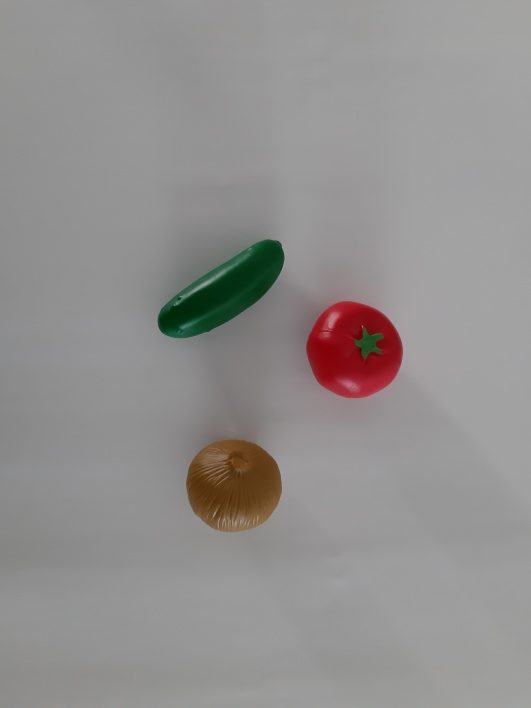cucumber: (154, 223, 298, 356)
onion: (179, 429, 289, 541)
tomato: (302, 292, 412, 411)
